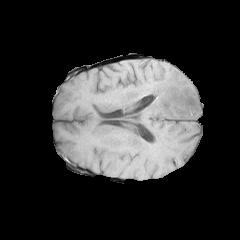glioma: (100, 69, 199, 146)
